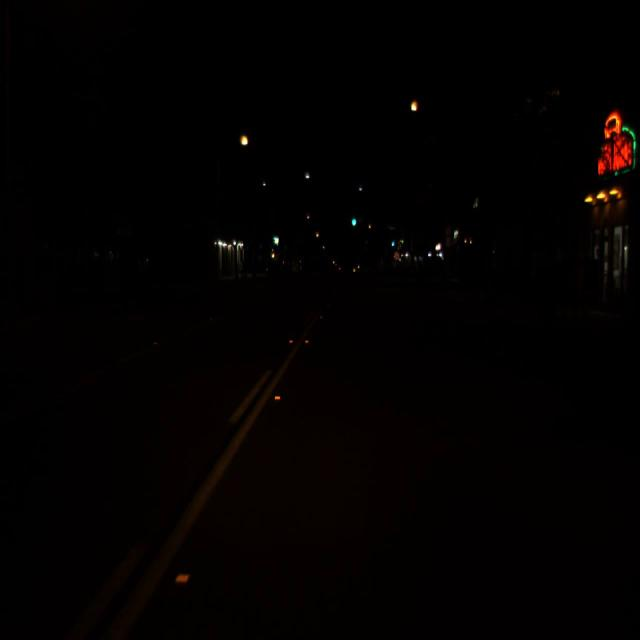go: (352, 219, 356, 224)
go traffic light: (350, 212, 357, 226)
